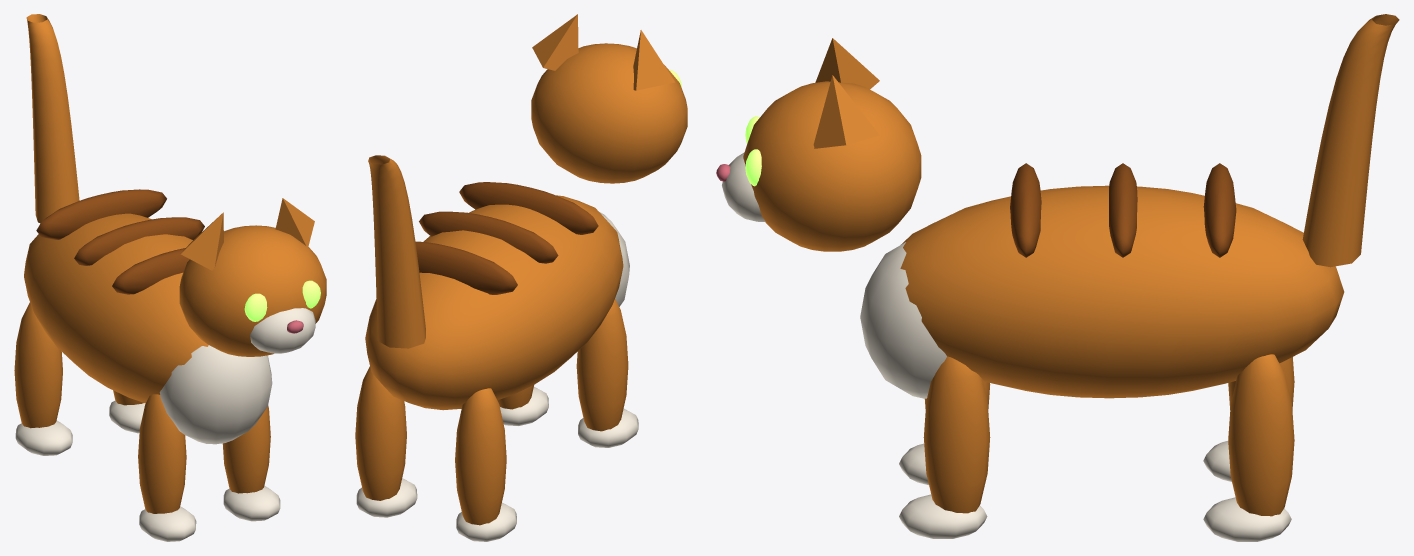
The model's file is Cat.fbx.
The picture shows the model from 3 angles, left to right: view 1: azimuth 30°, elevation 25°; view 2: azimuth 150°, elevation 25°; view 3: azimuth 270°, elevation 25°; orthographic projection. The views are drawn at different scales.
Visible parts, largest first — view 1: Body, Head, Tail, LegFR, LegBR, LegFL, LegBL; view 2: Body, Head, Tail, LegBR, LegBL, LegFR, LegFL; view 3: Body, Head, Tail, LegBL, LegFL, LegBR, LegFR.
Part boxes in pixels (<box>): Body: <box>24,189,272,444</box>; Head: <box>179,198,326,356</box>; Tail: <box>26,14,79,223</box>; LegFR: <box>138,394,196,541</box>; LegBR: <box>14,302,72,455</box>; LegFL: <box>222,405,280,521</box>; LegBL: <box>109,390,145,433</box>; Body: <box>365,182,629,410</box>; Head: <box>531,14,687,183</box>; Tail: <box>368,155,425,348</box>; LegBR: <box>455,388,516,541</box>; LegBL: <box>355,366,417,517</box>; LegFR: <box>576,299,638,447</box>; LegFL: <box>497,385,548,425</box>; Body: <box>860,163,1344,398</box>; Head: <box>716,38,921,251</box>; Tail: <box>1302,14,1399,267</box>; LegBL: <box>1203,354,1294,541</box>; LegFL: <box>899,356,990,538</box>; LegBR: <box>1203,357,1294,481</box>; LegFR: <box>899,381,990,485</box>.
Bounding box in the file's own units: 0.272 × 0.6225 × 0.7904.
